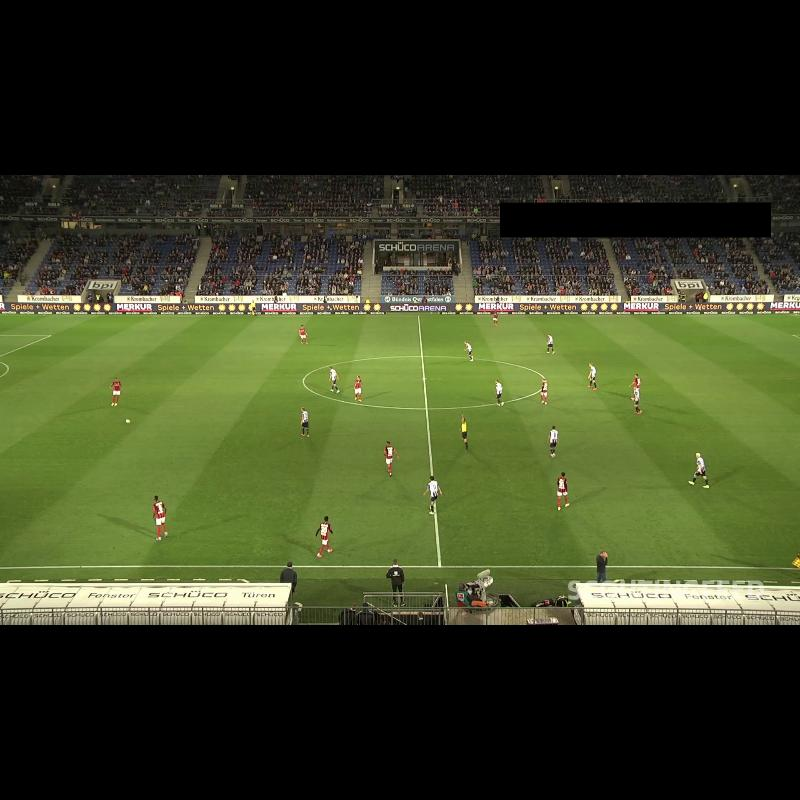cross_recipient_zone: (0, 335, 50, 356), (794, 334, 800, 338)
crossing_player_zone: (0, 315, 175, 337), (663, 315, 800, 336)
pitch: (0, 315, 800, 568)
